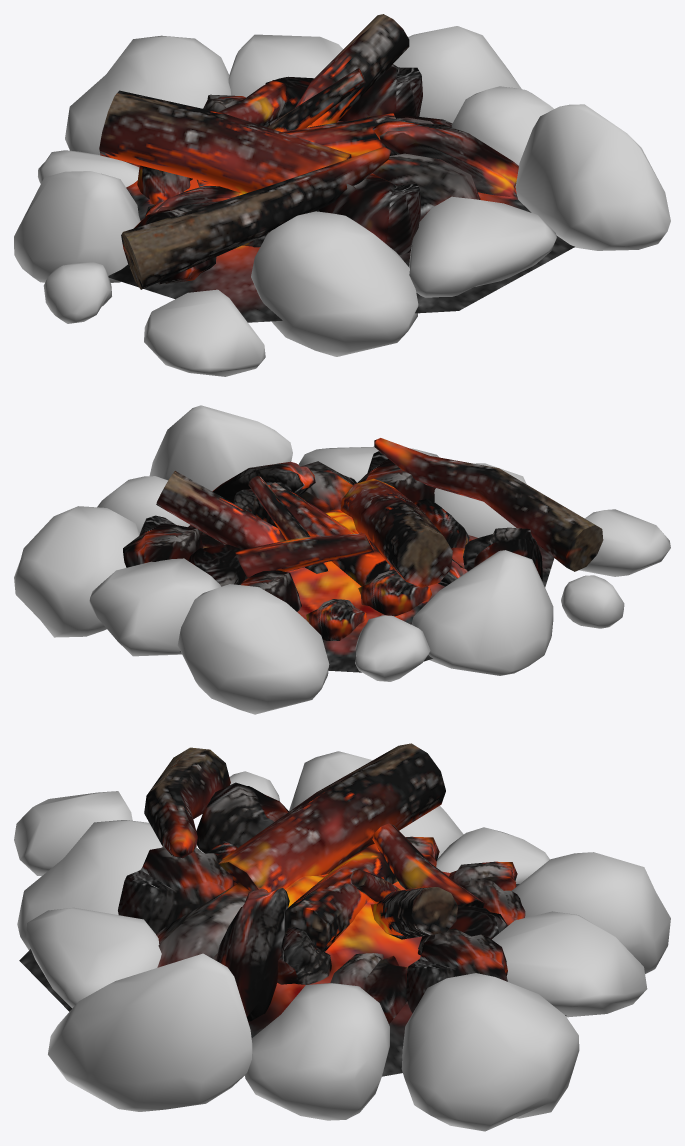
The model's file is camp_bonfire_01.fbx.
3 renders of one model, top to bottom at view 1: azimuth 30°, elevation 25°; view 2: azimuth 150°, elevation 25°; view 3: azimuth 270°, elevation 25°, orthographic. The views are drawn at different scales.
Parts seen in each view (by area): view 1: camp_bonfire_01; view 2: camp_bonfire_01; view 3: camp_bonfire_01.
Boxes of the visible parts, <box> form: camp_bonfire_01: <box>14,14,670,376</box>; camp_bonfire_01: <box>14,405,670,714</box>; camp_bonfire_01: <box>14,743,670,1131</box>.
Bounding box in the file's own units: 104 × 32.09 × 96.07.
